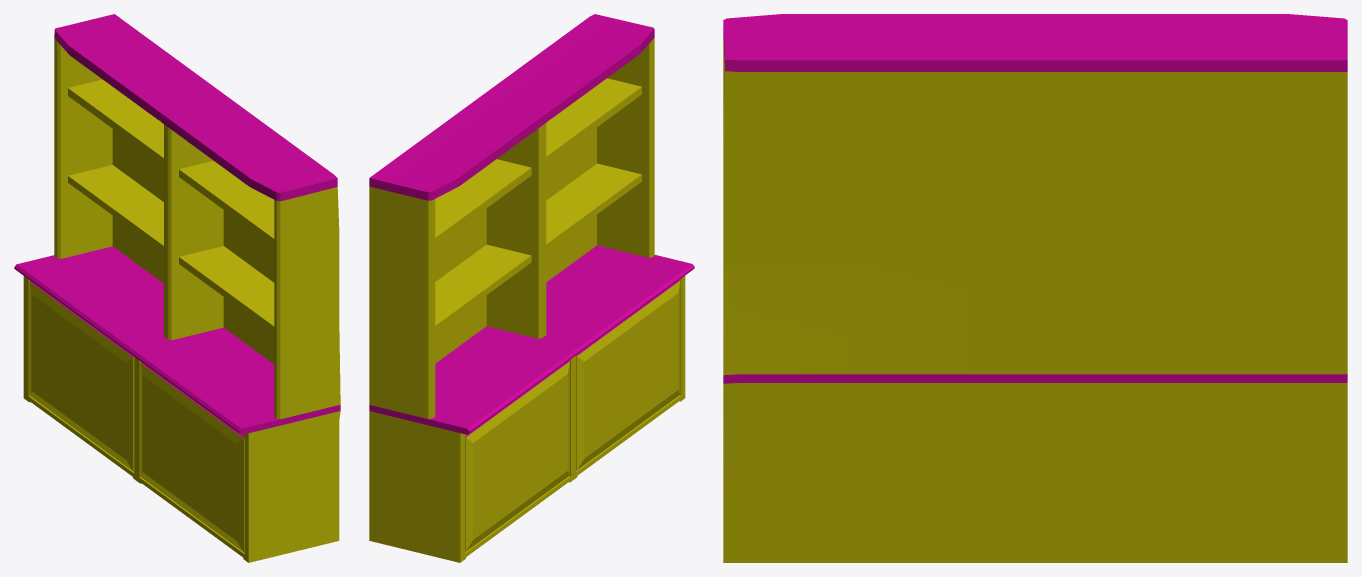
The model's file is armoire.FBX.
3 views of the same model, side by side, from view 1: azimuth 30°, elevation 25°; view 2: azimuth 150°, elevation 25°; view 3: azimuth 270°, elevation 25° (orthographic). The views are drawn at different scales.
Visible parts, largest first — view 1: Armoire_Bar; view 2: Armoire_Bar; view 3: Armoire_Bar.
Part boxes in pixels (x1,y1,x2,y2): Armoire_Bar: [14, 14, 340, 562]; Armoire_Bar: [369, 14, 694, 562]; Armoire_Bar: [723, 14, 1347, 562].
Size of the model in its own units: 32.17 by 123 by 110.
